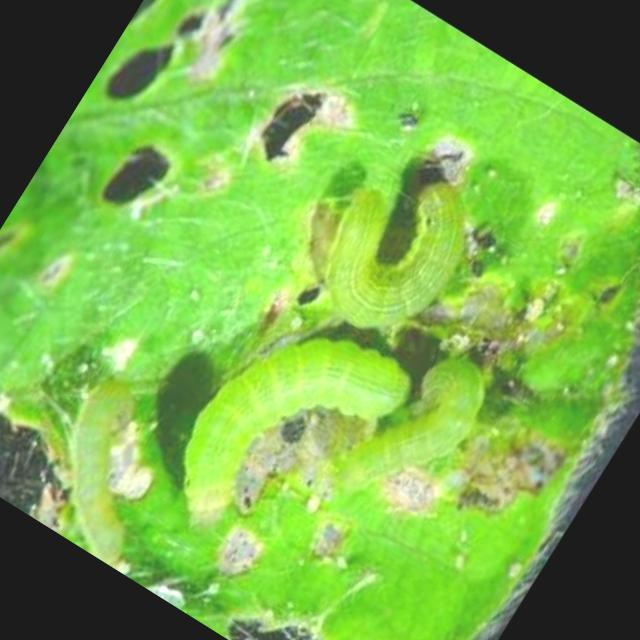Beet armyworm: (132, 262, 456, 598), (276, 132, 517, 384), (0, 351, 238, 588), (313, 326, 526, 562)
